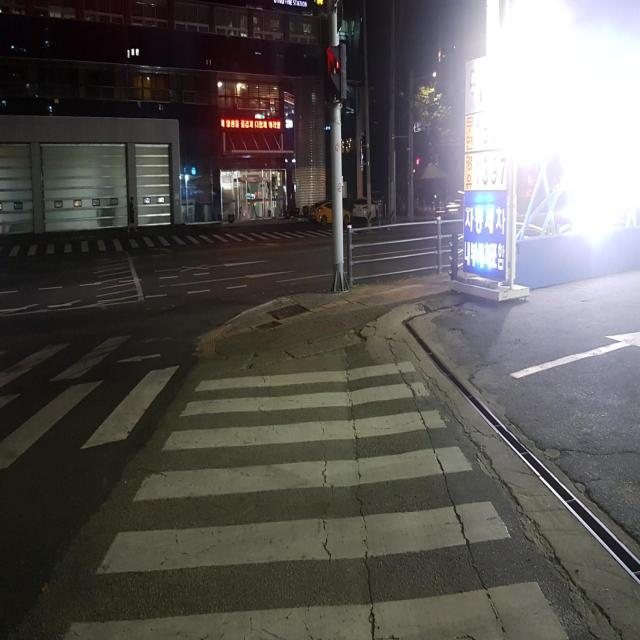빨간불: (331, 49, 341, 103)
횡단보도: (68, 358, 572, 640)
